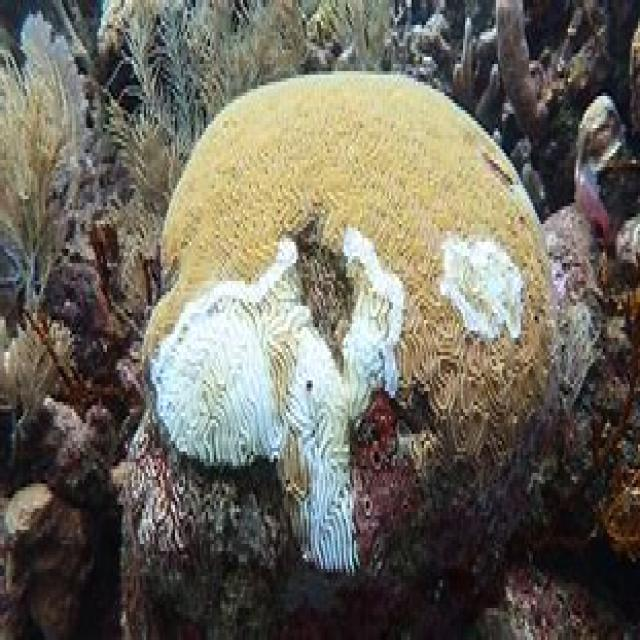Coral: (142, 72, 562, 575)
